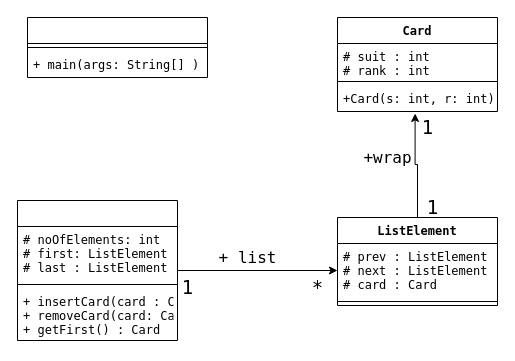
Some shapes in this 515 by 361 pixel diagram are drawn without their labels. Here are the shapes that lost their labels. From the top down, the box of each, then its label:
(26, 16, 208, 78): TestQuestion
(16, 200, 178, 340): CardList
